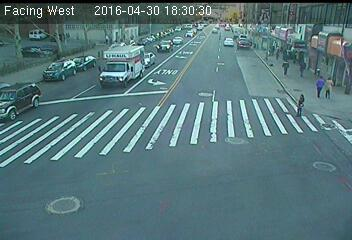neg: (159, 54, 190, 95), (205, 80, 228, 110), (56, 95, 77, 123), (27, 66, 47, 93), (8, 71, 25, 95), (245, 48, 262, 71), (182, 129, 196, 149), (144, 127, 156, 144), (78, 133, 90, 149), (217, 54, 225, 65)
pos: (308, 73, 329, 101), (292, 91, 311, 117), (321, 76, 340, 101), (296, 56, 313, 78), (278, 57, 294, 79)
